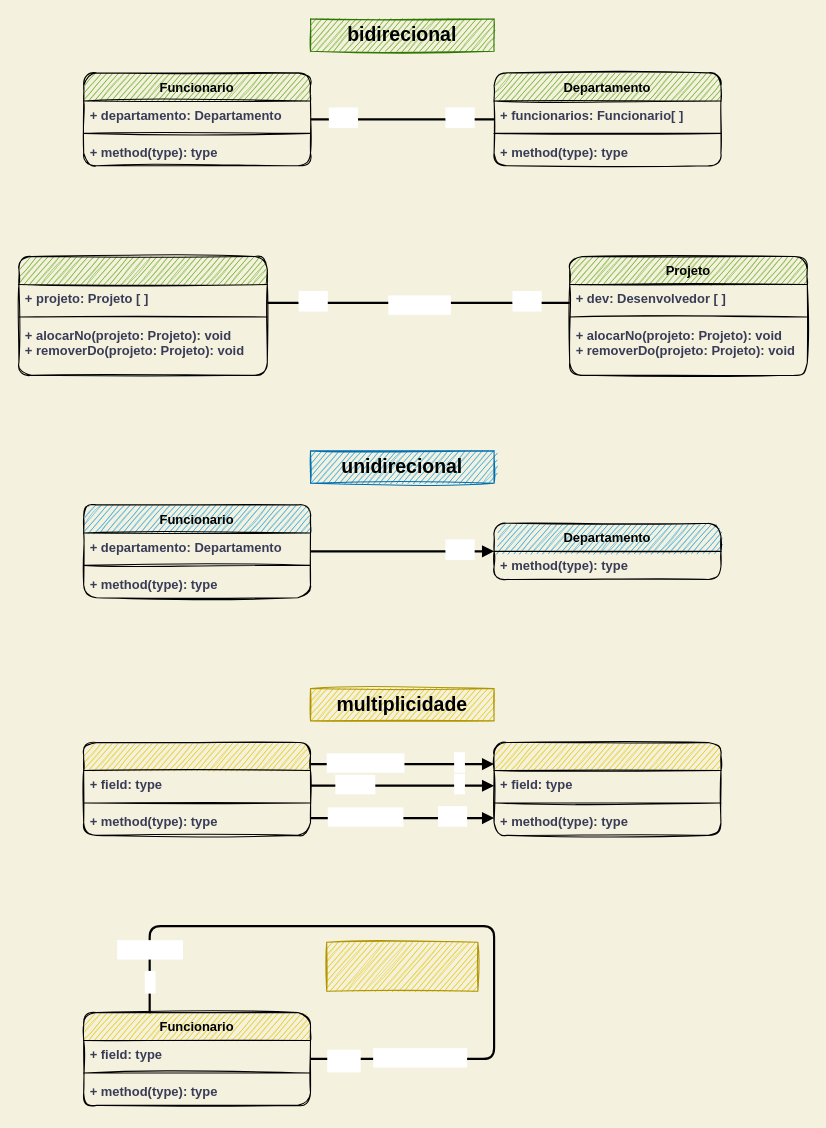
The diagram is 826 pixels wide and 1128 high, and some of its shapes have lost their labels. The box of each missing label's shape, as (x1, y1, x2, y2) in pixels:
auto associação / auto relacionamento: (326, 941, 478, 991)
ContratoAluguel: (83, 741, 310, 835)
Desenvolvedor: (18, 255, 267, 375)
Pessoa: (493, 741, 721, 835)
